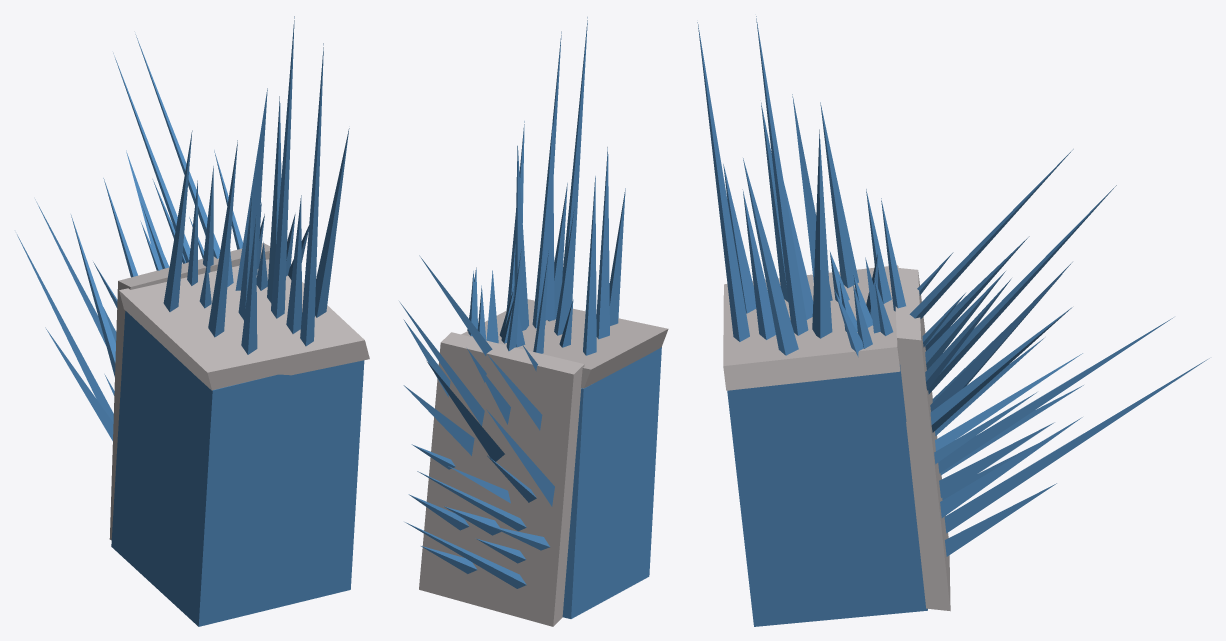
File: Acciavatti_JaggedsideStructure.fbx
3 renders of one model, left to right at view 1: azimuth 30°, elevation 25°; view 2: azimuth 150°, elevation 25°; view 3: azimuth 270°, elevation 25°, orthographic. The views are drawn at different scales.
Parts seen in each view (by area): view 1: Glaciermain, Snowtop, needle12 (×4), needle11 (×4), Snowside, needle18 (×2), needle19 (×2), needle10 (×2), needle16, needle14, needle13, needle17 (+1 smaller); view 2: Snowside, Glaciermain, Snowtop, needle12 (×4), needle11 (×4), needle10 (×4), needle16 (×3), needle17 (×3), needle18 (×2), needle15 (×3), needle19 (×3), needle14 (×2) (+1 smaller); view 3: Glaciermain, Snowtop, Snowside, needle12 (×4), needle11 (×4), needle17 (×2), needle10 (×3), needle16 (×3), needle19 (×2), needle15 (×3), needle18 (×2), needle14 (×2) (+1 smaller).
Boxes of the visible parts, x1,y1,x2,y2 form: Glaciermain: [111, 311, 364, 626]; Snowtop: [119, 259, 369, 390]; needle12 (×4): [17, 34, 323, 422]; needle11 (×4): [35, 16, 294, 345]; Snowside: [109, 243, 270, 540]; needle18 (×2): [71, 130, 192, 376]; needle19 (×2): [45, 128, 349, 440]; needle10 (×2): [126, 88, 267, 290]; needle16: [208, 140, 237, 337]; needle14: [241, 215, 257, 354]; needle13: [286, 195, 301, 333]; needle17: [267, 96, 281, 302]; Snowside: [419, 332, 584, 626]; Glaciermain: [562, 347, 661, 618]; Snowtop: [461, 299, 668, 388]; needle12 (×4): [405, 17, 587, 588]; needle11 (×4): [399, 31, 561, 531]; needle10 (×4): [426, 121, 554, 503]; needle16 (×3): [408, 147, 609, 530]; needle17 (×3): [403, 145, 536, 502]; needle18 (×2): [486, 176, 596, 506]; needle15 (×3): [444, 208, 574, 535]; needle19 (×3): [403, 121, 549, 550]; needle14 (×2): [421, 188, 625, 573]; Glaciermain: [727, 365, 927, 626]; Snowtop: [723, 265, 900, 390]; Snowside: [895, 268, 950, 611]; needle12 (×4): [697, 22, 1209, 533]; needle11 (×4): [756, 16, 1173, 473]; needle17 (×2): [812, 129, 1072, 432]; needle10 (×3): [792, 94, 1082, 450]; needle16 (×3): [761, 102, 1082, 517]; needle19 (×2): [743, 158, 1011, 390]; needle15 (×3): [784, 183, 1054, 497]; needle18 (×2): [820, 102, 1036, 464]; needle14 (×2): [723, 164, 1056, 556].
Bounding box in the file's own units: 17.71 × 60.69 × 47.66.
